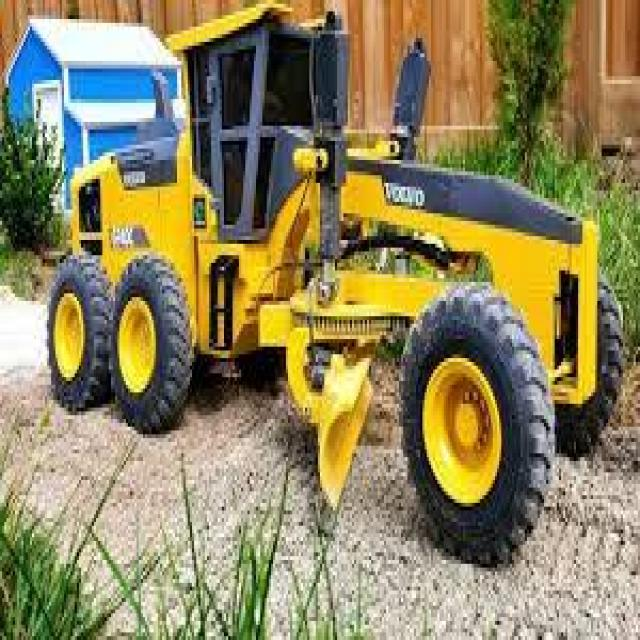Grader: (51, 4, 630, 579)
